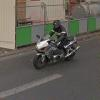Motorcycle: (25, 25, 87, 71)
